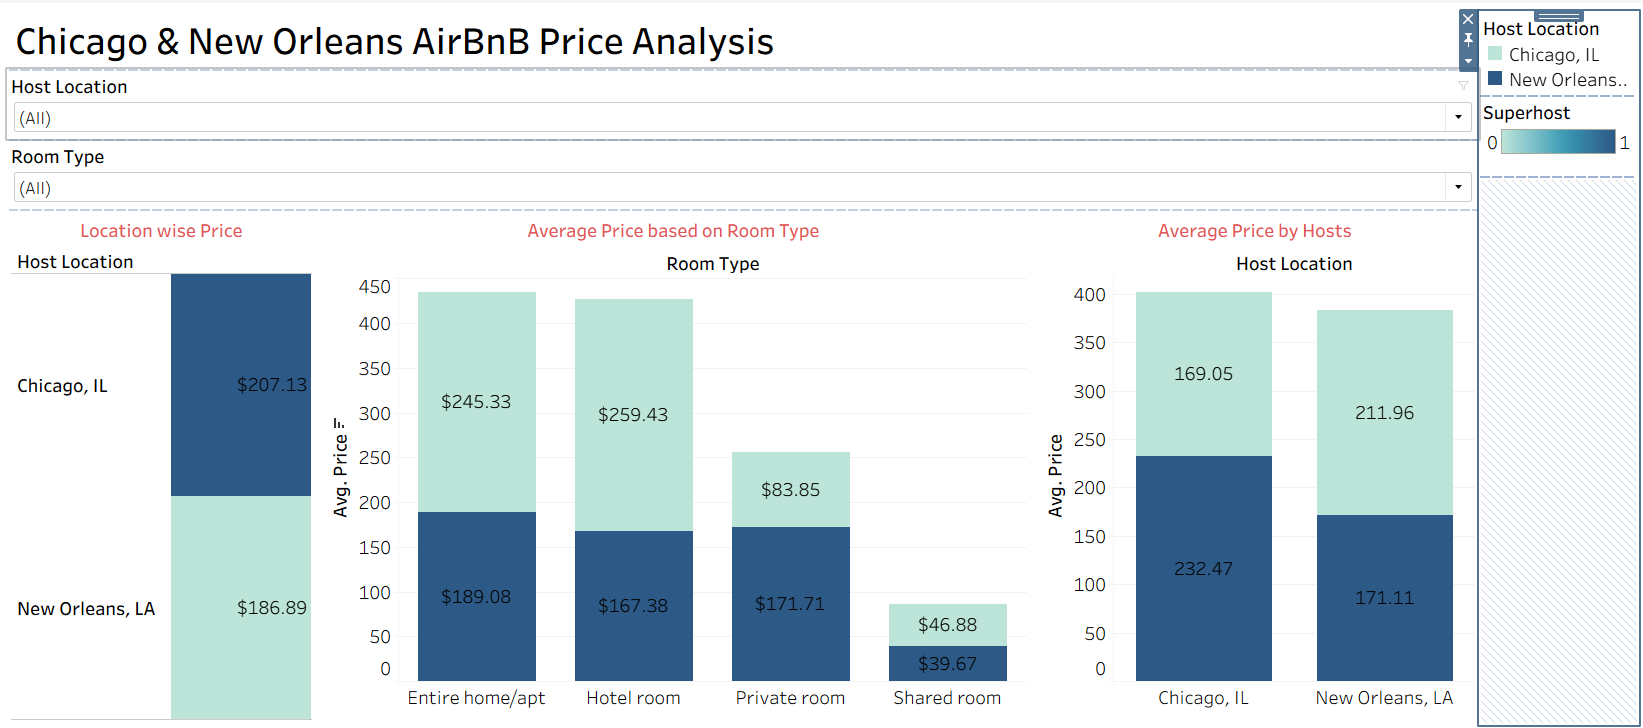

The page's visual inventory and layout, read from the dashboard file:
{"tool":"tableau","page":{"name":"DB - Price Analysis","canvas":[1000,1000],"units":"permille","ordinal":2},"visuals":[{"type":"title","box":[4.9,11,893.2,79.5]},{"type":"legend","title":"Average Price based on Room Type","param":"[federated.1dk3tz613rppmf14h9z8i1sxdjd3].[none:host_location:nk]","box":[898.1,11,97.1,115.1]},{"type":"filter","title":"Location wise Price","param":"[federated.1dk3tz613rppmf14h9z8i1sxdjd3].[none:host_location:nk]","box":[4.9,90.4,893.2,95.9]},{"type":"legend","title":"Average Price by Hosts","param":"[federated.1dk3tz613rppmf14h9z8i1sxdjd3].[none:Superhost:qk]","box":[898.1,126,97.1,111]},{"type":"filter","title":"Average Price based on Room Type","param":"[federated.1dk3tz613rppmf14h9z8i1sxdjd3].[none:room_type:nk]","box":[4.9,186.3,893.2,95.9]},{"type":"worksheet","title":"Location wise Price","mark":"Square","rows":["host_location"],"box":[4.9,282.2,187.5,706.9]},{"type":"worksheet","title":"Average Price based on Room Type","mark":"Bar","rows":["price"],"cols":["room_type"],"box":[192.3,282.2,433.9,706.9]},{"type":"worksheet","title":"Average Price by Hosts","mark":"Automatic","rows":["price"],"cols":["host_location"],"box":[626.2,282.2,271.9,706.9]}]}

Visuals, with their boxes on the dashboard's canvas, which has no fixed pixel size, in thousandths of its width and height (x1, y1, x2, y2). These are canvas units, not pixel positions in the 1643x728 screenshot, which may show the page scaled, cropped or inside an application window:
title: bbox=[5, 11, 898, 90]
"Average Price based on Room Type" legend: bbox=[898, 11, 995, 126]
"Location wise Price" filter: bbox=[5, 90, 898, 186]
"Average Price by Hosts" legend: bbox=[898, 126, 995, 237]
"Average Price based on Room Type" filter: bbox=[5, 186, 898, 282]
"Location wise Price" worksheet (Square marks): bbox=[5, 282, 192, 989]
"Average Price based on Room Type" worksheet (Bar marks): bbox=[192, 282, 626, 989]
"Average Price by Hosts" worksheet: bbox=[626, 282, 898, 989]
